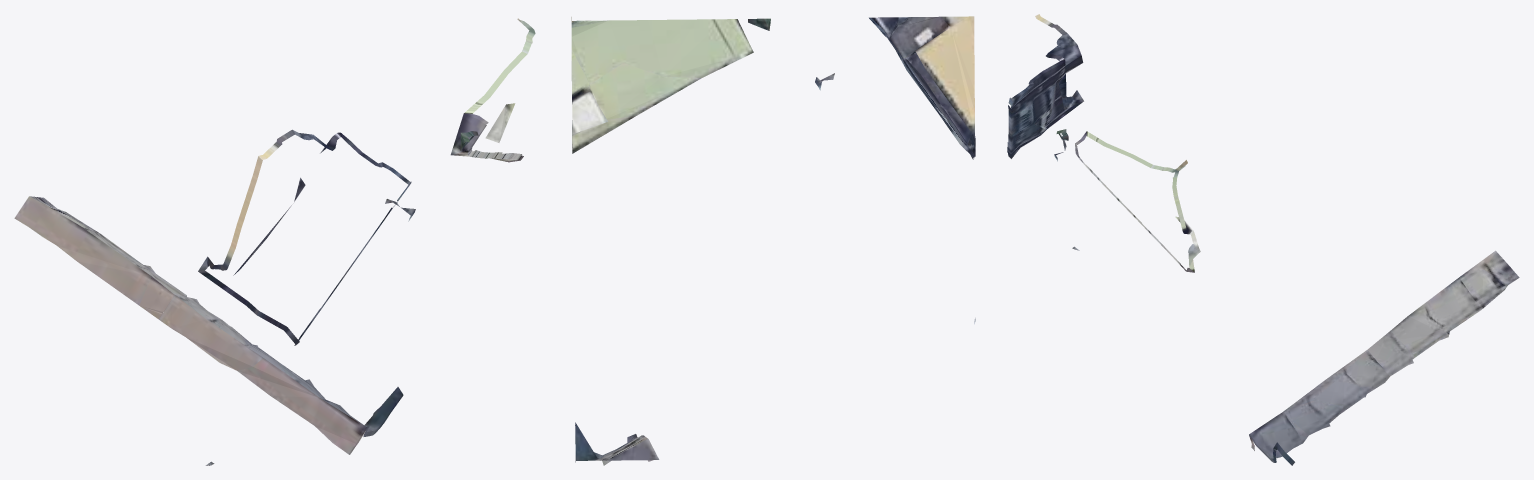
The picture shows the model from 3 angles, left to right: view 1: azimuth 30°, elevation 25°; view 2: azimuth 150°, elevation 25°; view 3: azimuth 270°, elevation 25°; orthographic projection. The views are drawn at different scales.
Bounding box in the file's own units: 35.26 × 38.81 × 51.31.
Materials: 1 (1 with a texture image).
